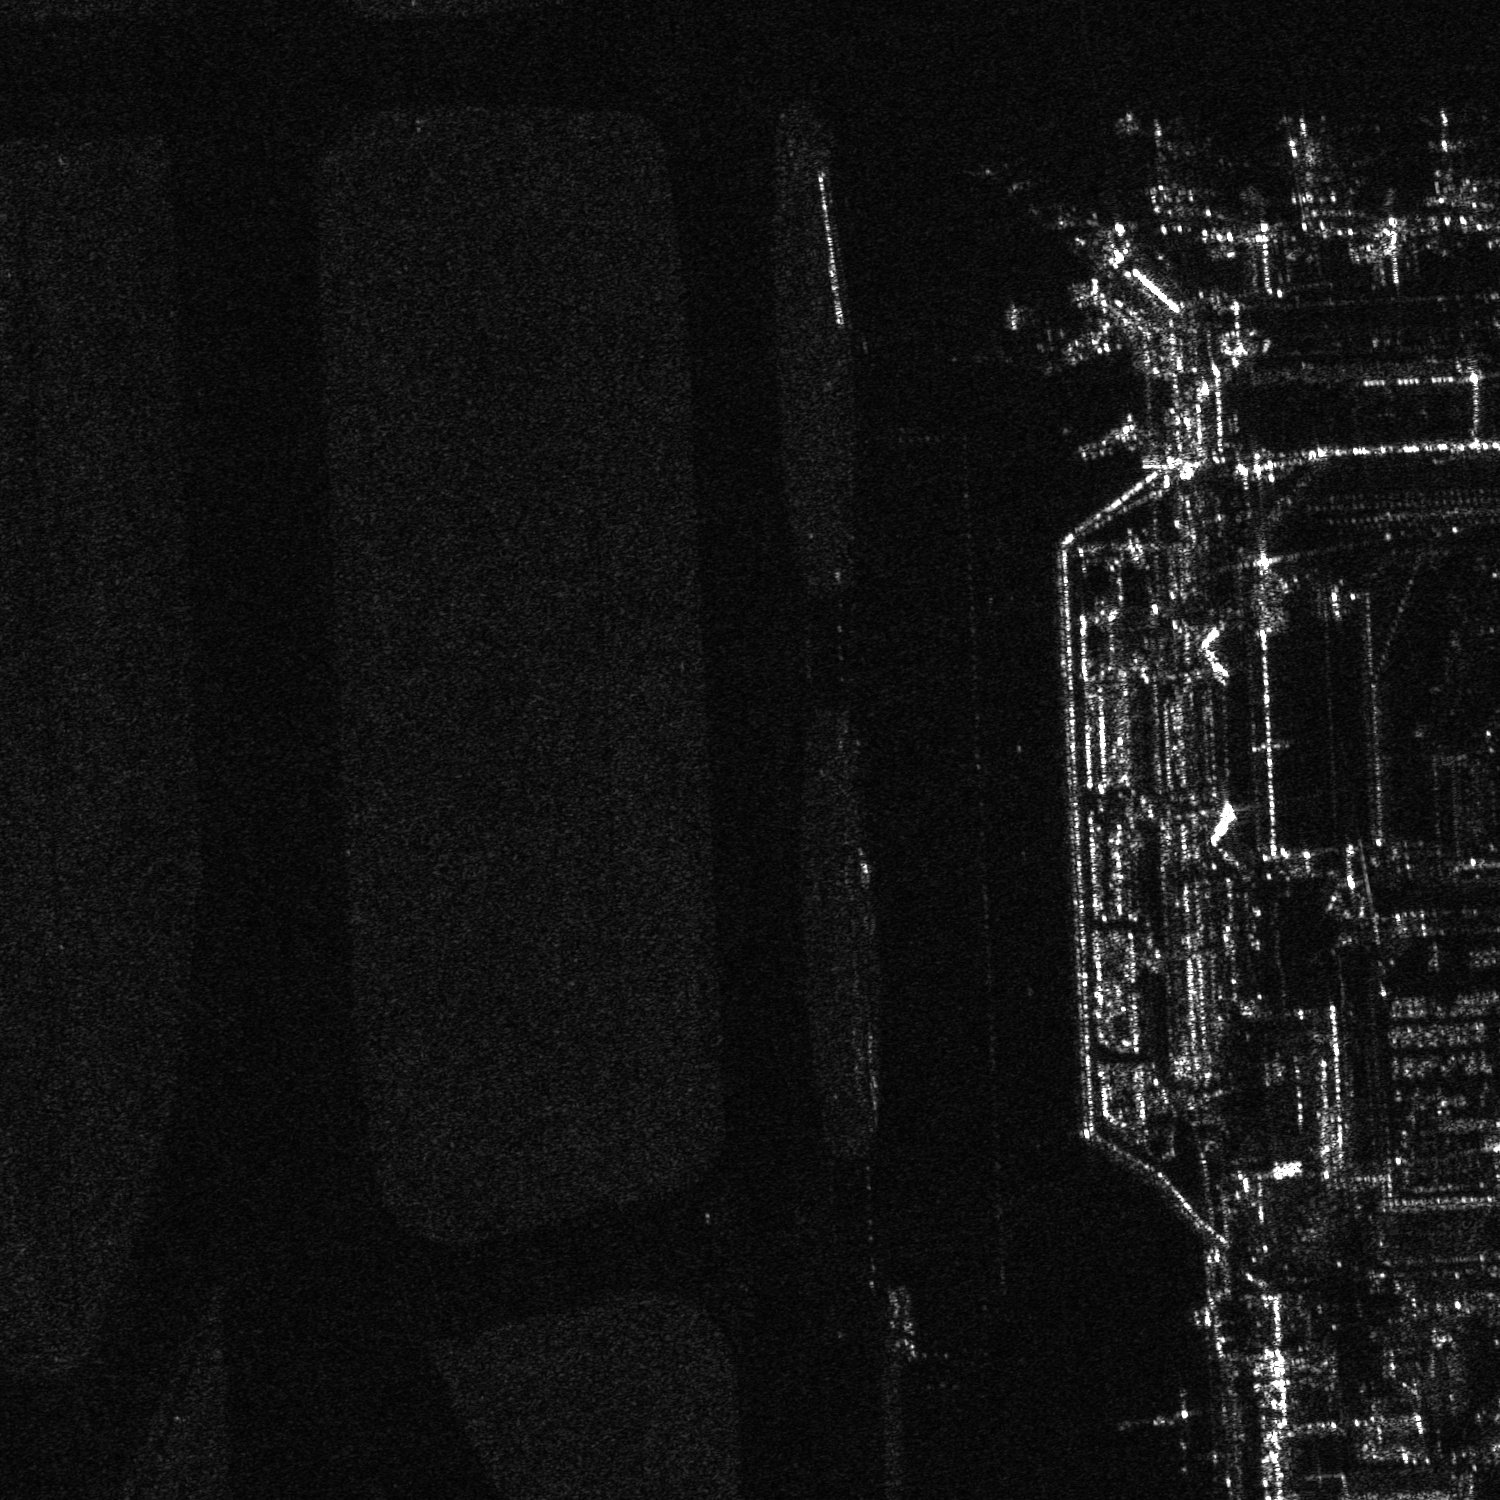A220: (1276, 110, 1342, 206)
Boeing787: (1415, 103, 1474, 183)
other: (1130, 110, 1209, 220)
